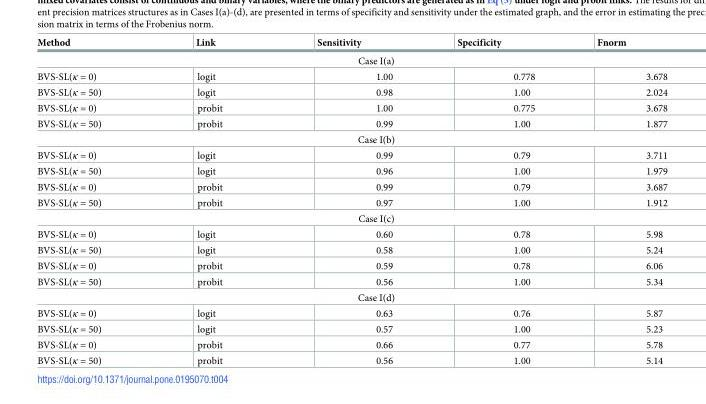table: (36, 37, 666, 365)
table column: (269, 37, 424, 365), (424, 37, 565, 365), (147, 37, 269, 365), (36, 37, 147, 365), (565, 37, 666, 365)
table column header: (36, 37, 666, 51)
table projected row header: (36, 51, 666, 67), (36, 131, 666, 146), (36, 210, 666, 225), (36, 289, 666, 304)
table row: (36, 114, 666, 131), (36, 193, 666, 210), (36, 272, 666, 289), (36, 51, 666, 67), (36, 67, 666, 83), (36, 83, 666, 99), (36, 146, 666, 162), (36, 162, 666, 178), (36, 225, 666, 241), (36, 241, 666, 257), (36, 304, 666, 320), (36, 335, 666, 351), (36, 99, 666, 114), (36, 131, 666, 146), (36, 178, 666, 193), (36, 210, 666, 225), (36, 257, 666, 272), (36, 289, 666, 304), (36, 320, 666, 335), (36, 37, 666, 51), (36, 351, 666, 365)
